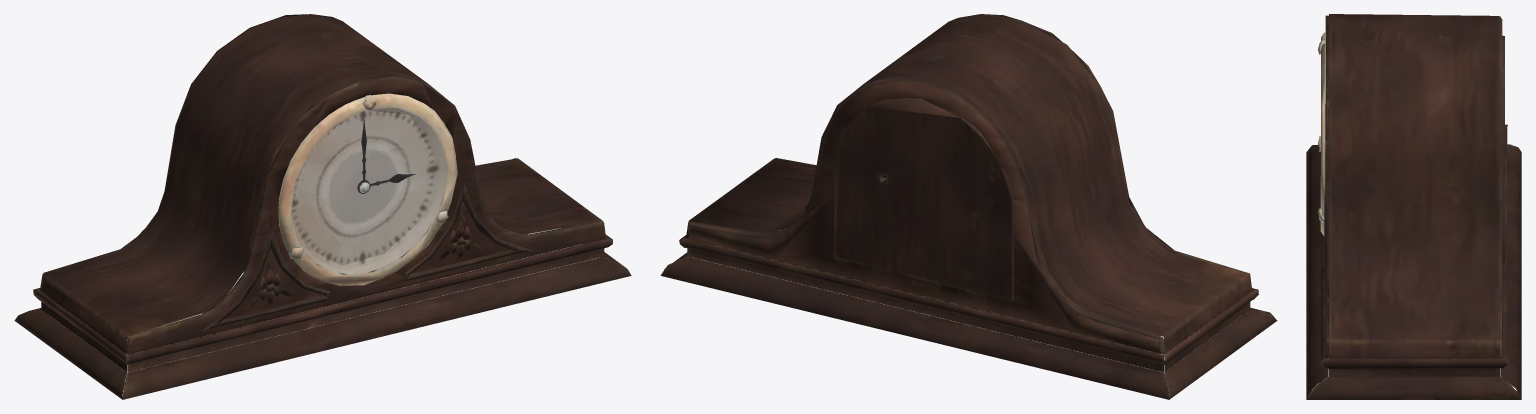
Rendered from mantel_clock_01.glb.
3 renders of one model, left to right at view 1: azimuth 30°, elevation 25°; view 2: azimuth 150°, elevation 25°; view 3: azimuth 270°, elevation 25°, orthographic.
Visible parts, largest first — view 1: mantel_clock_01; view 2: mantel_clock_01; view 3: mantel_clock_01.
Boxes of the visible parts, box(x1,y1,x2,y2) form: mantel_clock_01: box(14, 14, 631, 399); mantel_clock_01: box(660, 14, 1277, 399); mantel_clock_01: box(1306, 14, 1521, 399).
Bounding box in the file's own units: 0.3424 × 0.1612 × 0.126.
Materials: 2 (2 with a texture image).
